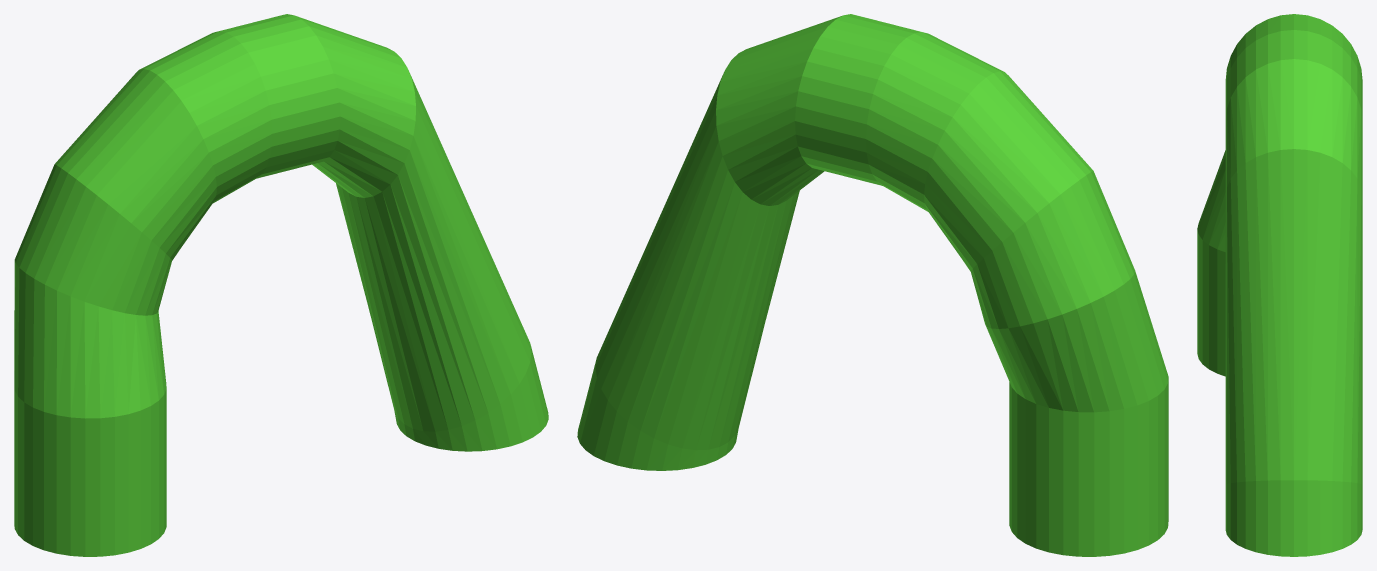
3 renders of one model, left to right at view 1: azimuth 30°, elevation 25°; view 2: azimuth 150°, elevation 25°; view 3: azimuth 270°, elevation 25°, orthographic. The views are drawn at different scales.
Parts seen in each view (by area): view 1: Cylinder; view 2: Cylinder; view 3: Cylinder.
Part boxes in pixels (<box>): Cylinder: <box>14,14,548,556</box>; Cylinder: <box>577,14,1168,556</box>; Cylinder: <box>1197,14,1362,556</box>.
Bounding box in the file's own units: 161 × 48.38 × 128.
